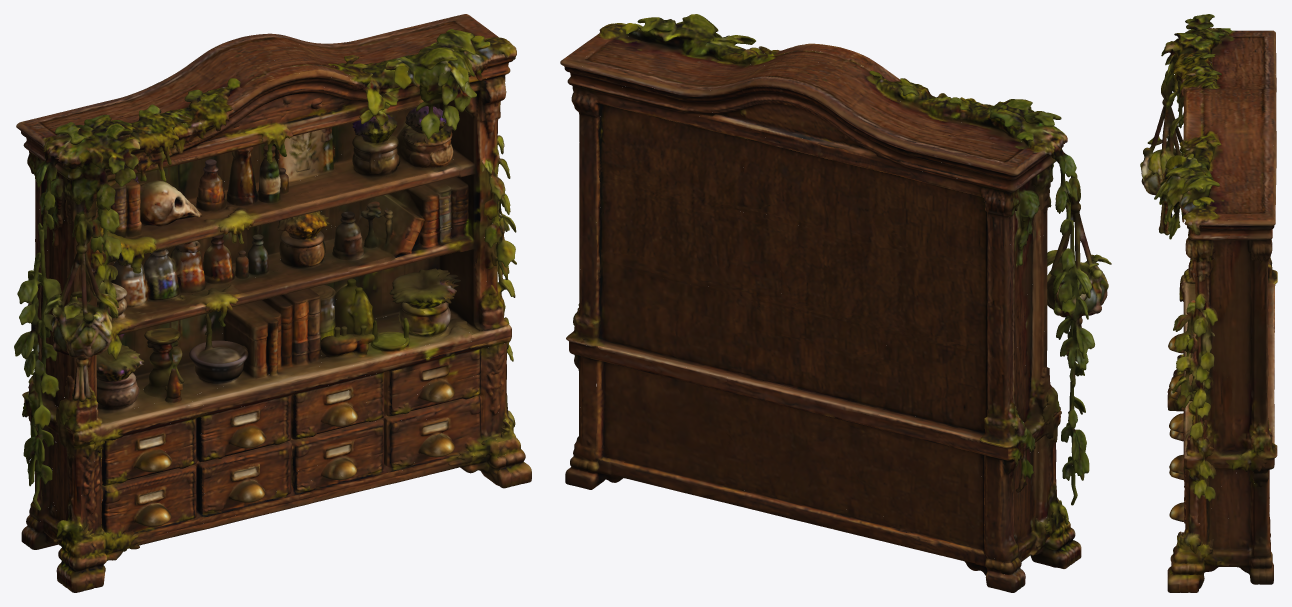
The model's file is CabinetB_Optimized.glb.
The picture shows the model from 3 angles, left to right: view 1: azimuth 30°, elevation 25°; view 2: azimuth 150°, elevation 25°; view 3: azimuth 270°, elevation 25°; orthographic projection. The views are drawn at different scales.
Parts seen in each view (by area): view 1: CabinetB_Optimized; view 2: CabinetB_Optimized; view 3: CabinetB_Optimized.
Boxes of the visible parts, box(x1,y1,x2,y2) form: CabinetB_Optimized: box(14, 14, 531, 592); CabinetB_Optimized: box(560, 14, 1111, 592); CabinetB_Optimized: box(1140, 14, 1277, 592).
Bounding box in the file's own units: 2.19 × 1.94 × 0.6082.
1 material, 1 textured.
